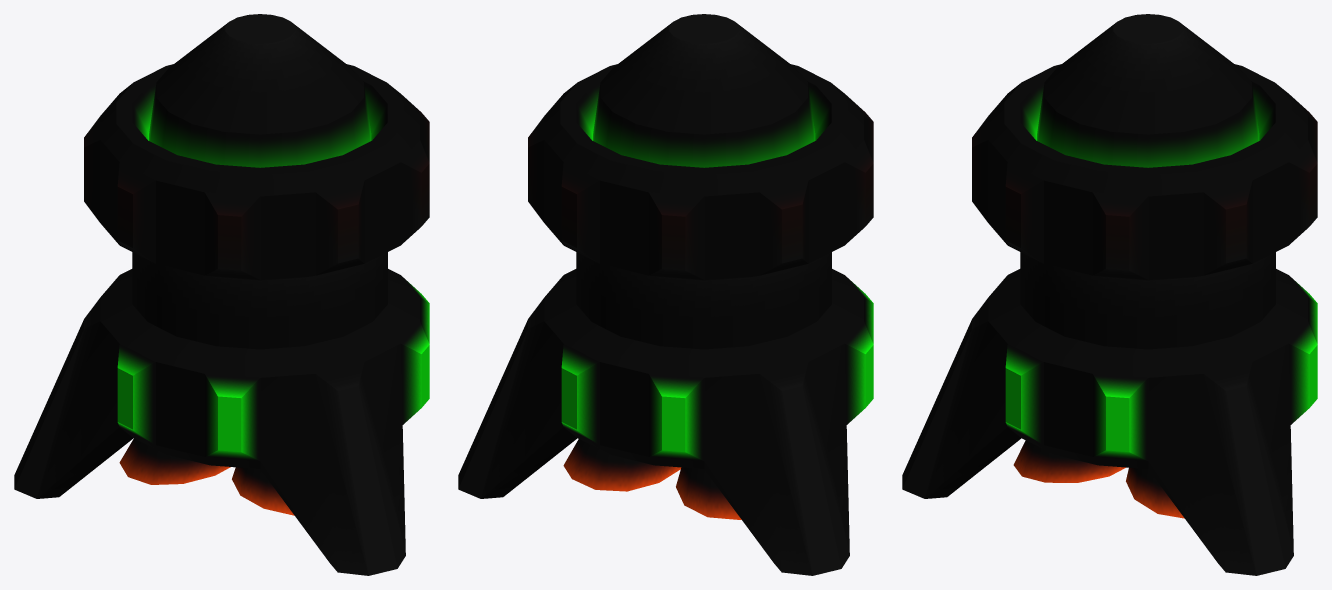
File: powerUpRocket.gltf
3 renders of one model, left to right at view 1: azimuth 30°, elevation 25°; view 2: azimuth 150°, elevation 25°; view 3: azimuth 270°, elevation 25°, orthographic.
Parts seen in each view (by area): view 1: Rocket; view 2: Rocket; view 3: Rocket.
Part boxes in pixels (box(x1,y1,x2,y2)): Rocket: box(14, 14, 429, 575); Rocket: box(458, 14, 873, 575); Rocket: box(902, 14, 1317, 575).
Size of the model in its own units: 136 by 154 by 128.
1 material, 1 textured.
